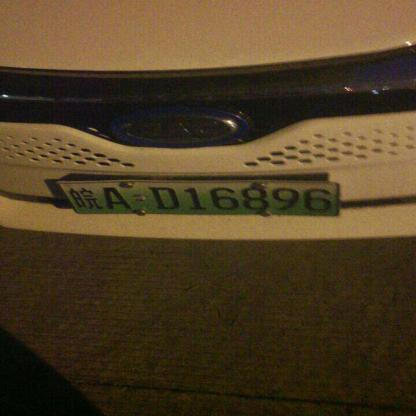lp: (58, 182, 337, 214)
